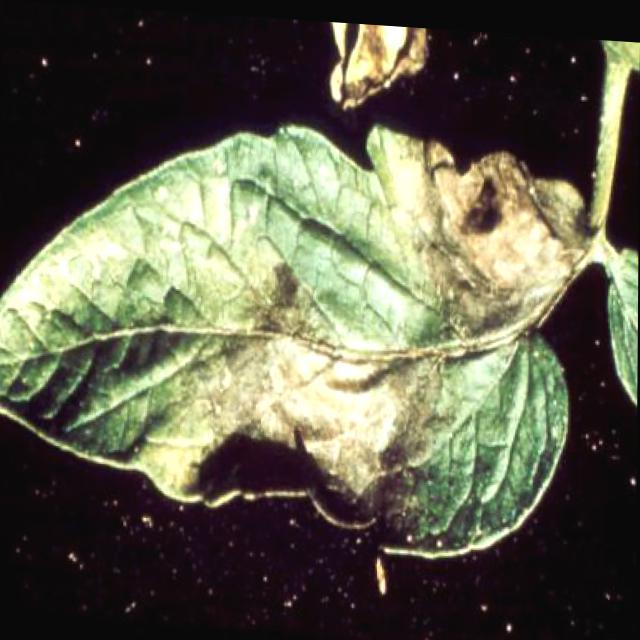Tomato mosaic virus leaf: (0, 77, 590, 584)
